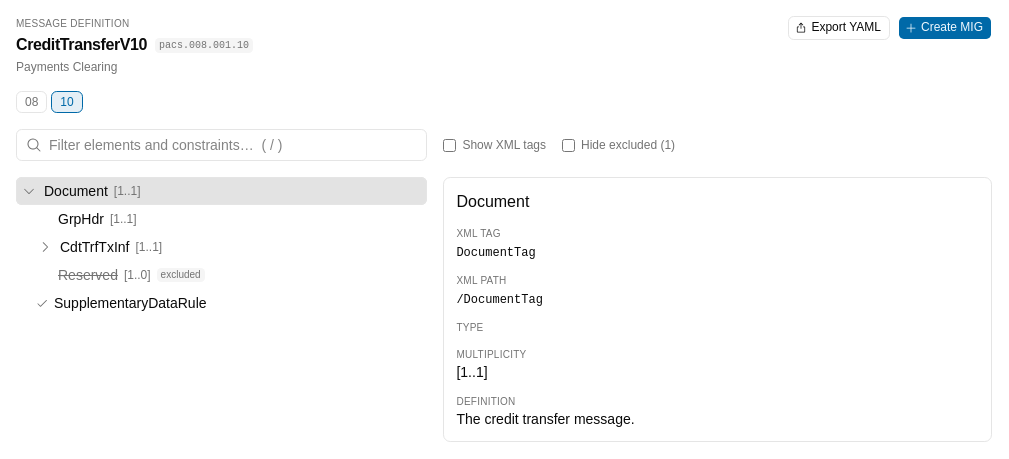
Test: MessageExplorer › toggles tree labels between element names and XML tags
Expected: the list item "GrpHdr" is shown, left=58, top=211, right=137, bottom=227
Click the checkbox labelled "Show XML tags": (450, 145) left=443, top=138, right=456, bottom=152
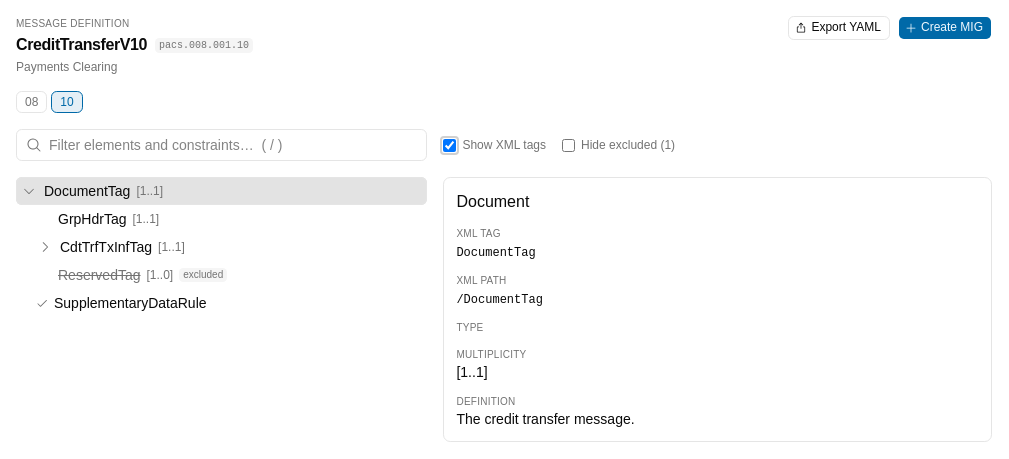
Now the list item "GrpHdrTag" is shown, box left=58, top=211, right=159, bottom=227
